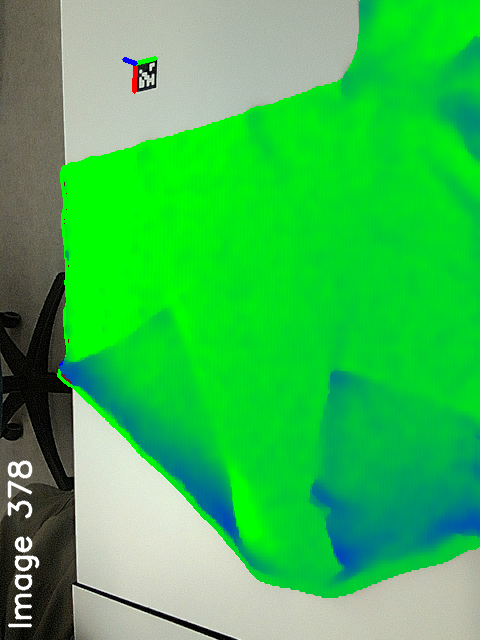V: (140, 292, 197, 349), (316, 353, 373, 408)
